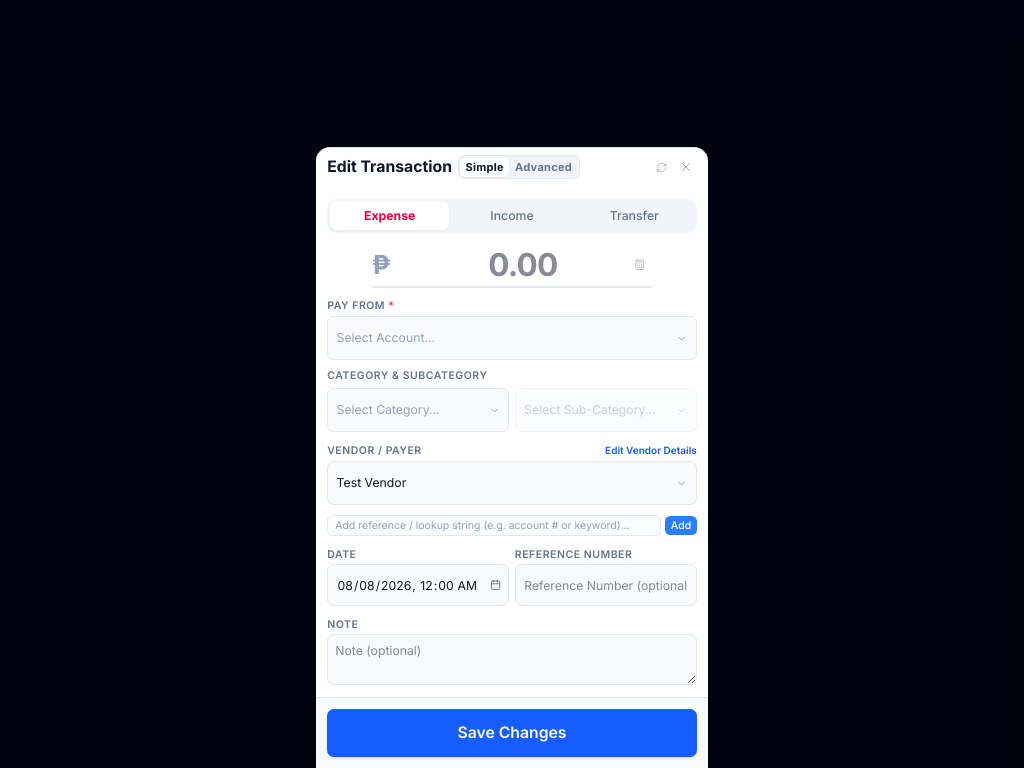
Test case: AddTransactionModal › Vendor Handling › opens EditVendorModal when edit button is clicked
Click the button titled "Edit selected vendor" at (651, 451), box [605,443,697,458]
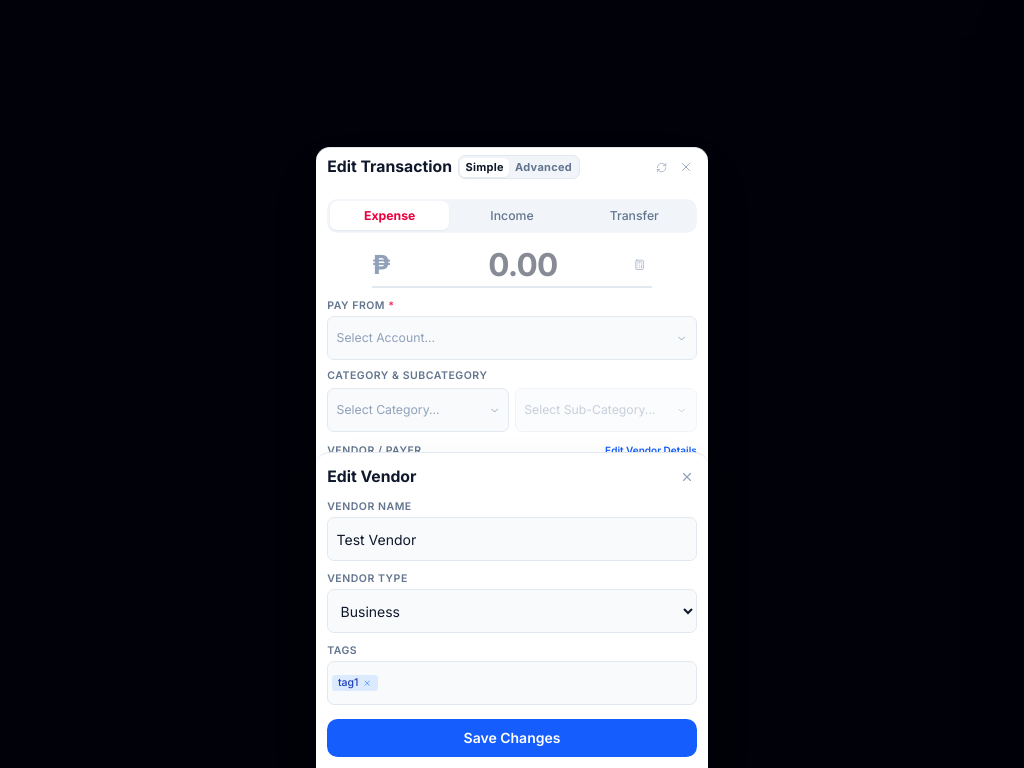
Now the heading "Edit Vendor" is shown, box [327,465,416,489]
